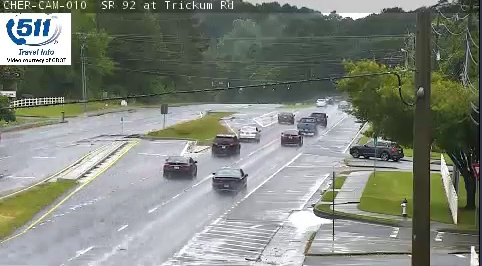car: (212, 169, 247, 192), (163, 155, 196, 176), (212, 134, 239, 155), (296, 117, 317, 134), (280, 129, 302, 145), (239, 126, 259, 141), (309, 112, 327, 127), (276, 113, 294, 124)
